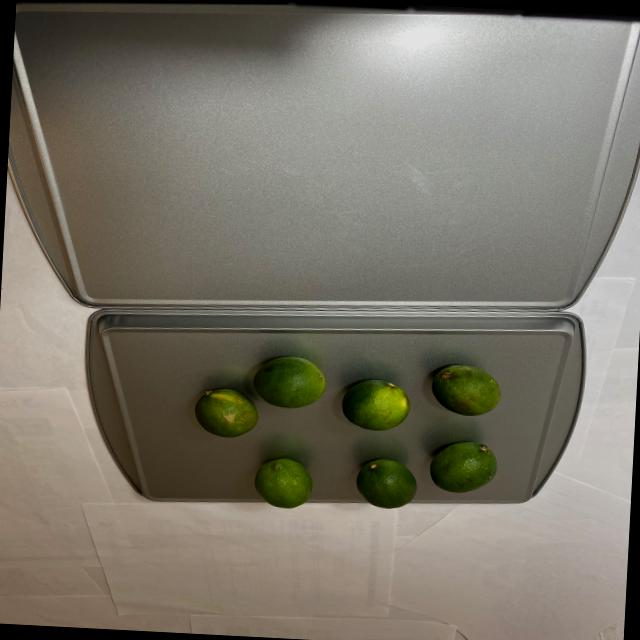lemon: (187, 349, 513, 517)
